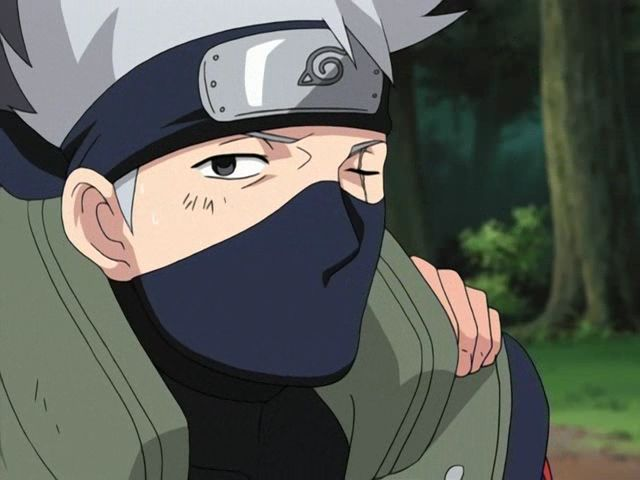kakashi: (51, 15, 391, 396)
